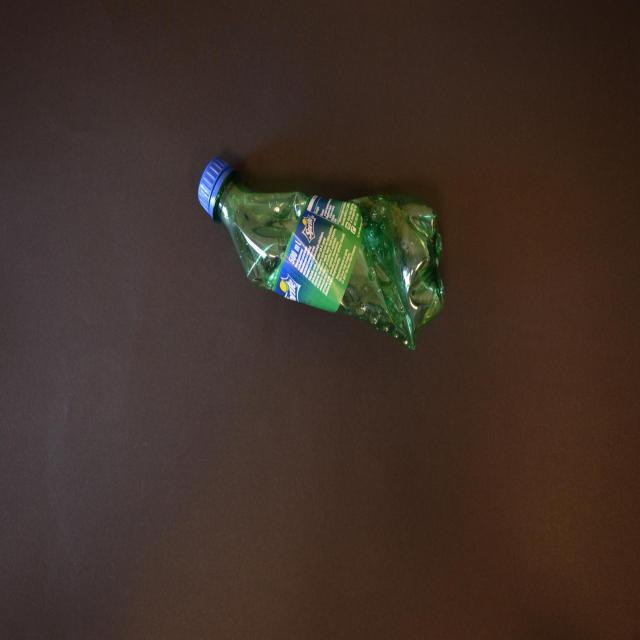plastic_bottle: (197, 156, 446, 351)
